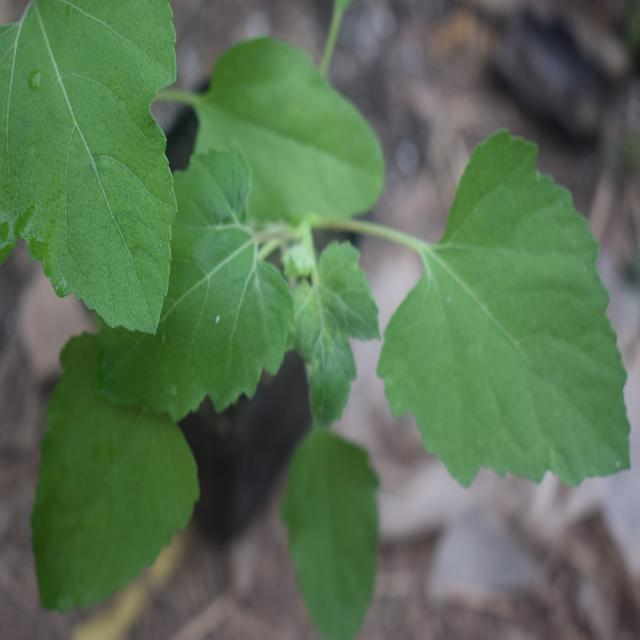cocklebur: (17, 3, 595, 533)
